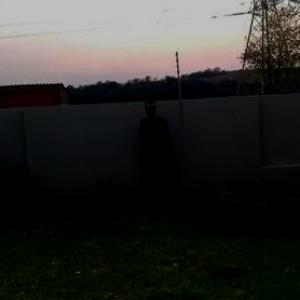follow: (138, 96, 173, 209)
